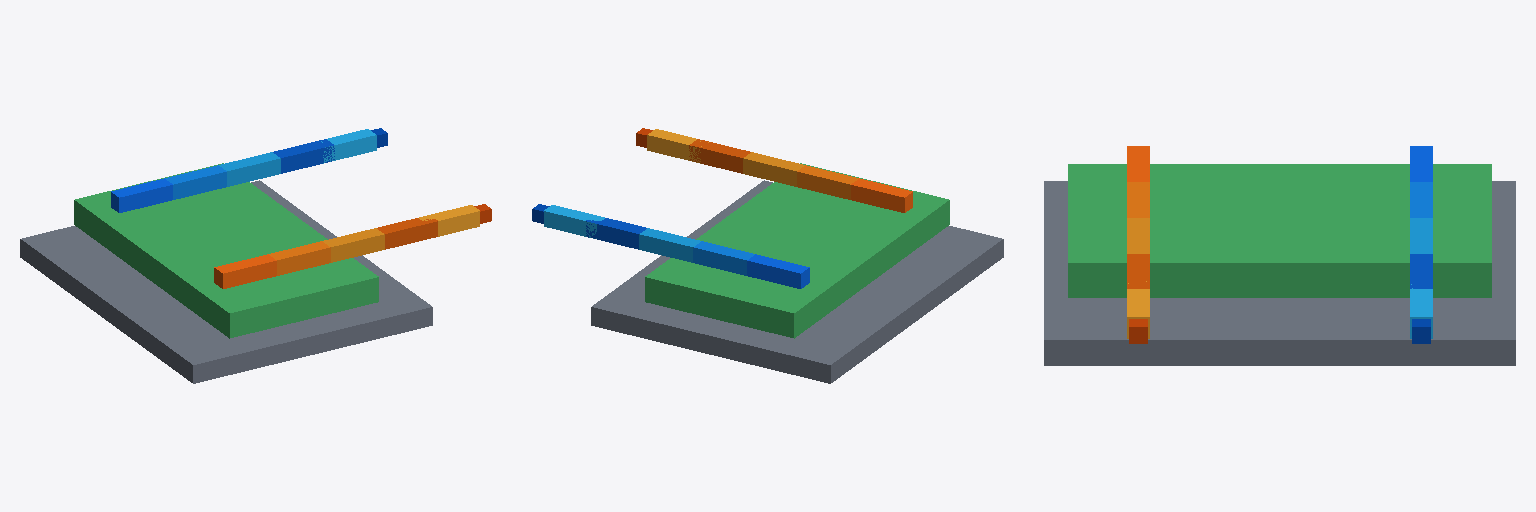
URDF robot description (shared_gantry_dual_6r):
<?xml version="1.0"?>
<robot name="shared_gantry_dual_6r">
  <link name="base">
    <visual name="base_visual_0">
      <origin xyz="0 0 0" rpy="0 0 0"/>
      <geometry><mesh filename="meshes/base.stl" scale="0.001 0.001 0.001"/></geometry>
      <material name="base_material_0"><color rgba="0.48 0.51 0.56 1"/></material>
    </visual>
  </link>
  <link name="carriage">
    <visual name="carriage_visual_0">
      <origin xyz="0 0 0" rpy="0 0 0"/>
      <geometry><mesh filename="meshes/carriage.stl" scale="0.001 0.001 0.001"/></geometry>
      <material name="carriage_material_0"><color rgba="0.3 0.72 0.42 1"/></material>
    </visual>
  </link>
  <link name="arm0_link1">
    <visual name="arm0_link1_visual_0">
      <origin xyz="0 0 0" rpy="0 0 0"/>
      <geometry><mesh filename="meshes/arm_link.stl" scale="0.001 0.001 0.001"/></geometry>
      <material name="arm0_link1_material_0"><color rgba="0.98 0.44 0.1 1"/></material>
    </visual>
  </link>
  <link name="arm0_link2">
    <visual name="arm0_link2_visual_0">
      <origin xyz="0 0 0" rpy="0 0 0"/>
      <geometry><mesh filename="meshes/arm_link.stl" scale="0.001 0.001 0.001"/></geometry>
      <material name="arm0_link2_material_0"><color rgba="0.95 0.52 0.12 1"/></material>
    </visual>
  </link>
  <link name="arm0_link3">
    <visual name="arm0_link3_visual_0">
      <origin xyz="0 0 0" rpy="0 0 0"/>
      <geometry><mesh filename="meshes/arm_link.stl" scale="0.001 0.001 0.001"/></geometry>
      <material name="arm0_link3_material_0"><color rgba="0.92 0.6 0.16 1"/></material>
    </visual>
  </link>
  <link name="arm0_link4">
    <visual name="arm0_link4_visual_0">
      <origin xyz="0 0 0" rpy="0 0 0"/>
      <geometry><mesh filename="meshes/arm_link.stl" scale="0.001 0.001 0.001"/></geometry>
      <material name="arm0_link4_material_0"><color rgba="0.88 0.4 0.08 1"/></material>
    </visual>
  </link>
  <link name="arm0_link5">
    <visual name="arm0_link5_visual_0">
      <origin xyz="0 0 0" rpy="0 0 0"/>
      <geometry><mesh filename="meshes/arm_link.stl" scale="0.001 0.001 0.001"/></geometry>
      <material name="arm0_link5_material_0"><color rgba="0.96 0.66 0.2 1"/></material>
    </visual>
  </link>
  <link name="arm0_link6">
    <visual name="arm0_link6_visual_0">
      <origin xyz="0 0 0" rpy="0 0 0"/>
      <geometry><mesh filename="meshes/wrist_link.stl" scale="0.001 0.001 0.001"/></geometry>
      <material name="arm0_link6_material_0"><color rgba="0.84 0.32 0.06 1"/></material>
    </visual>
  </link>
  <link name="arm1_link1">
    <visual name="arm1_link1_visual_0">
      <origin xyz="0 0 0" rpy="0 0 0"/>
      <geometry><mesh filename="meshes/arm_link.stl" scale="0.001 0.001 0.001"/></geometry>
      <material name="arm1_link1_material_0"><color rgba="0.08 0.46 0.96 1"/></material>
    </visual>
  </link>
  <link name="arm1_link2">
    <visual name="arm1_link2_visual_0">
      <origin xyz="0 0 0" rpy="0 0 0"/>
      <geometry><mesh filename="meshes/arm_link.stl" scale="0.001 0.001 0.001"/></geometry>
      <material name="arm1_link2_material_0"><color rgba="0.1 0.56 0.94 1"/></material>
    </visual>
  </link>
  <link name="arm1_link3">
    <visual name="arm1_link3_visual_0">
      <origin xyz="0 0 0" rpy="0 0 0"/>
      <geometry><mesh filename="meshes/arm_link.stl" scale="0.001 0.001 0.001"/></geometry>
      <material name="arm1_link3_material_0"><color rgba="0.14 0.66 0.92 1"/></material>
    </visual>
  </link>
  <link name="arm1_link4">
    <visual name="arm1_link4_visual_0">
      <origin xyz="0 0 0" rpy="0 0 0"/>
      <geometry><mesh filename="meshes/arm_link.stl" scale="0.001 0.001 0.001"/></geometry>
      <material name="arm1_link4_material_0"><color rgba="0.06 0.4 0.84 1"/></material>
    </visual>
  </link>
  <link name="arm1_link5">
    <visual name="arm1_link5_visual_0">
      <origin xyz="0 0 0" rpy="0 0 0"/>
      <geometry><mesh filename="meshes/arm_link.stl" scale="0.001 0.001 0.001"/></geometry>
      <material name="arm1_link5_material_0"><color rgba="0.18 0.72 0.96 1"/></material>
    </visual>
  </link>
  <link name="arm1_link6">
    <visual name="arm1_link6_visual_0">
      <origin xyz="0 0 0" rpy="0 0 0"/>
      <geometry><mesh filename="meshes/wrist_link.stl" scale="0.001 0.001 0.001"/></geometry>
      <material name="arm1_link6_material_0"><color rgba="0.04 0.34 0.76 1"/></material>
    </visual>
  </link>
  <joint name="gantry" type="prismatic">
    <parent link="base"/>
    <child link="carriage"/>
    <origin xyz="0 0 0.1" rpy="0 0 0"/>
    <axis xyz="1 0 0"/>
    <limit lower="-0.25" upper="0.25" effort="0" velocity="0.18"/>
  </joint>
  <joint name="arm0_joint1" type="revolute">
    <parent link="carriage"/>
    <child link="arm0_link1"/>
    <origin xyz="-0.2 -0.3 0.08" rpy="0 0 0"/>
    <axis xyz="0 0 1"/>
    <limit lower="-3.14159265358979" upper="3.14159265358979" effort="0" velocity="1.5"/>
  </joint>
  <joint name="arm0_joint2" type="revolute">
    <parent link="arm0_link1"/>
    <child link="arm0_link2"/>
    <origin xyz="0.18 0 0" rpy="0 0 0"/>
    <axis xyz="0 1 0"/>
    <limit lower="-2.4" upper="2.4" effort="0" velocity="1.5"/>
  </joint>
  <joint name="arm0_joint3" type="revolute">
    <parent link="arm0_link2"/>
    <child link="arm0_link3"/>
    <origin xyz="0.18 0 0" rpy="0 0 0"/>
    <axis xyz="0 1 0"/>
    <limit lower="-2.7" upper="2.7" effort="0" velocity="1.8"/>
  </joint>
  <joint name="arm0_joint4" type="revolute">
    <parent link="arm0_link3"/>
    <child link="arm0_link4"/>
    <origin xyz="0.18 0 0" rpy="0 0 0"/>
    <axis xyz="1 0 0"/>
    <limit lower="-3.14159265358979" upper="3.14159265358979" effort="0" velocity="2"/>
  </joint>
  <joint name="arm0_joint5" type="revolute">
    <parent link="arm0_link4"/>
    <child link="arm0_link5"/>
    <origin xyz="0.14 0 0" rpy="0 0 0"/>
    <axis xyz="0 1 0"/>
    <limit lower="-2.7" upper="2.7" effort="0" velocity="2"/>
  </joint>
  <joint name="arm0_joint6" type="revolute">
    <parent link="arm0_link5"/>
    <child link="arm0_link6"/>
    <origin xyz="0.12 0 0" rpy="0 0 0"/>
    <axis xyz="1 0 0"/>
    <limit lower="-3.14159265358979" upper="3.14159265358979" effort="0" velocity="2.2"/>
  </joint>
  <joint name="arm1_joint1" type="revolute">
    <parent link="carriage"/>
    <child link="arm1_link1"/>
    <origin xyz="-0.2 0.3 0.08" rpy="0 0 0"/>
    <axis xyz="0 0 1"/>
    <limit lower="-3.14159265358979" upper="3.14159265358979" effort="0" velocity="1.5"/>
  </joint>
  <joint name="arm1_joint2" type="revolute">
    <parent link="arm1_link1"/>
    <child link="arm1_link2"/>
    <origin xyz="0.18 0 0" rpy="0 0 0"/>
    <axis xyz="0 1 0"/>
    <limit lower="-2.4" upper="2.4" effort="0" velocity="1.5"/>
  </joint>
  <joint name="arm1_joint3" type="revolute">
    <parent link="arm1_link2"/>
    <child link="arm1_link3"/>
    <origin xyz="0.18 0 0" rpy="0 0 0"/>
    <axis xyz="0 1 0"/>
    <limit lower="-2.7" upper="2.7" effort="0" velocity="1.8"/>
  </joint>
  <joint name="arm1_joint4" type="revolute">
    <parent link="arm1_link3"/>
    <child link="arm1_link4"/>
    <origin xyz="0.18 0 0" rpy="0 0 0"/>
    <axis xyz="1 0 0"/>
    <limit lower="-3.14159265358979" upper="3.14159265358979" effort="0" velocity="2"/>
  </joint>
  <joint name="arm1_joint5" type="revolute">
    <parent link="arm1_link4"/>
    <child link="arm1_link5"/>
    <origin xyz="0.14 0 0" rpy="0 0 0"/>
    <axis xyz="0 1 0"/>
    <limit lower="-2.7" upper="2.7" effort="0" velocity="2"/>
  </joint>
  <joint name="arm1_joint6" type="revolute">
    <parent link="arm1_link5"/>
    <child link="arm1_link6"/>
    <origin xyz="0.12 0 0" rpy="0 0 0"/>
    <axis xyz="1 0 0"/>
    <limit lower="-3.14159265358979" upper="3.14159265358979" effort="0" velocity="2.2"/>
  </joint>
  <link name="flange0"/>
  <joint name="flange0_fixed_joint" type="fixed">
    <parent link="arm0_link6"/>
    <child link="flange0"/>
    <origin xyz="0.1 0 0" rpy="0 0 0"/>
  </joint>
  <link name="flange1"/>
  <joint name="flange1_fixed_joint" type="fixed">
    <parent link="arm1_link6"/>
    <child link="flange1"/>
    <origin xyz="0.1 0 0" rpy="0 0 0"/>
  </joint>
</robot>

--- Facts derived from the render (not from the file) ---
3 views of the same robot in one strip: view 1: azimuth 30°, elevation 25°; view 2: azimuth 150°, elevation 25°; view 3: azimuth 270°, elevation 25° (orthographic).
Robot: shared_gantry_dual_6r — 16 links, 15 joints (12 revolute, 1 prismatic, 2 fixed); root link base; default pose: all joints at 0.
Links seen in each view (by area): view 1: carriage, base, arm0_link1, arm1_link1, arm0_link2, arm1_link2, arm1_link3, arm0_link3, arm0_link4, arm1_link4, arm1_link5, arm0_link5; view 2: carriage, base, arm1_link1, arm0_link1, arm0_link2, arm0_link3, arm1_link2, arm1_link3, arm0_link4, arm1_link5, arm1_link4, arm0_link5; view 3: carriage, base, arm0_link1, arm0_link2, arm0_link3, arm1_link1, arm1_link2, arm1_link3, arm0_link4, arm1_link4, arm0_link5, arm1_link5.
Link boxes in pixels (<box>): carriage: <box>74,163,378,338</box>; base: <box>20,180,432,383</box>; arm0_link1: <box>214,254,276,288</box>; arm1_link1: <box>111,178,172,212</box>; arm0_link2: <box>269,241,330,275</box>; arm1_link2: <box>165,165,226,199</box>; arm1_link3: <box>219,152,280,186</box>; arm0_link3: <box>323,228,384,262</box>; arm0_link4: <box>377,218,437,249</box>; arm1_link4: <box>273,139,334,173</box>; arm1_link5: <box>321,129,376,163</box>; arm0_link5: <box>419,205,479,236</box>; carriage: <box>645,163,949,338</box>; base: <box>591,180,1003,383</box>; arm1_link1: <box>747,254,809,288</box>; arm0_link1: <box>851,178,912,212</box>; arm0_link2: <box>797,165,858,199</box>; arm0_link3: <box>743,152,804,186</box>; arm1_link2: <box>693,241,754,275</box>; arm1_link3: <box>639,228,700,262</box>; arm0_link4: <box>689,139,750,173</box>; arm1_link5: <box>544,205,604,238</box>; arm1_link4: <box>586,218,646,249</box>; arm0_link5: <box>647,129,708,163</box>; carriage: <box>1068,164,1491,297</box>; base: <box>1044,181,1515,365</box>; arm0_link1: <box>1127,146,1149,181</box>; arm0_link2: <box>1127,182,1149,217</box>; arm0_link3: <box>1127,218,1149,253</box>; arm1_link1: <box>1410,146,1432,181</box>; arm1_link2: <box>1410,182,1432,217</box>; arm1_link3: <box>1410,218,1432,253</box>; arm0_link4: <box>1127,254,1149,288</box>; arm1_link4: <box>1410,254,1432,288</box>; arm0_link5: <box>1127,281,1149,338</box>; arm1_link5: <box>1410,284,1432,338</box>.
Bounding box of the posed robot: 1.1 × 1 × 0.235 m (x, y, z).
14 mesh visuals loaded from 4 distinct referenced files (4 ASCII STL).
